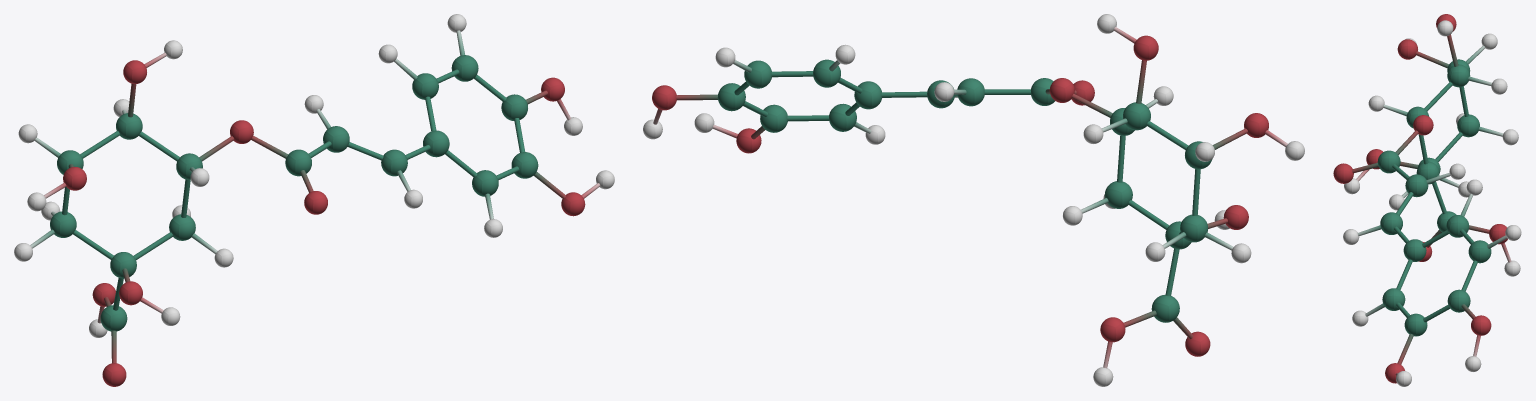
File: Chlorogenic Acid.fbx
3 views of the same model, side by side, from view 1: azimuth 30°, elevation 25°; view 2: azimuth 150°, elevation 25°; view 3: azimuth 270°, elevation 25° (orthographic). The views are drawn at different scales.
Parts seen in each view (by area): view 1: curMeshHyperballExportedMesh; view 2: curMeshHyperballExportedMesh; view 3: curMeshHyperballExportedMesh.
Part boxes in pixels (x1,y1,x2,y2): curMeshHyperballExportedMesh: (14, 14, 614, 386); curMeshHyperballExportedMesh: (643, 14, 1304, 386); curMeshHyperballExportedMesh: (1333, 14, 1521, 386).
Bounding box in the file's own units: 14.38 × 7.37 × 4.65.
